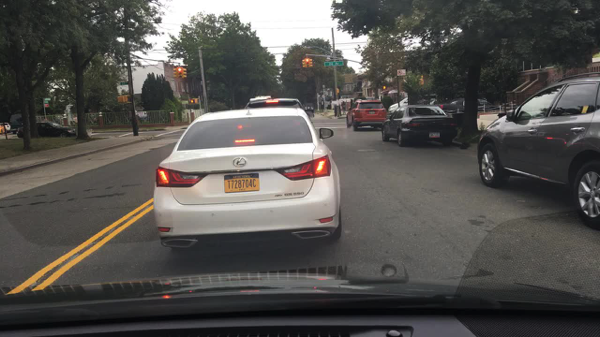car: (154, 107, 342, 253), (477, 72, 599, 230), (381, 106, 458, 147), (246, 96, 314, 119), (347, 99, 385, 132), (17, 122, 76, 137), (439, 98, 493, 110), (388, 96, 408, 112), (9, 115, 21, 133), (418, 93, 436, 105), (303, 102, 315, 112), (1, 122, 11, 132), (0, 125, 4, 136)
person: (342, 101, 346, 115)
traffic light: (177, 67, 183, 81), (117, 96, 127, 101), (190, 98, 198, 104), (183, 68, 187, 79), (304, 58, 308, 69), (308, 59, 313, 67), (173, 68, 176, 80), (302, 59, 304, 68), (336, 88, 339, 94)
traffic sign: (323, 61, 343, 67), (396, 70, 406, 76), (120, 81, 128, 85), (44, 98, 52, 101), (45, 105, 51, 109), (44, 101, 50, 103)
